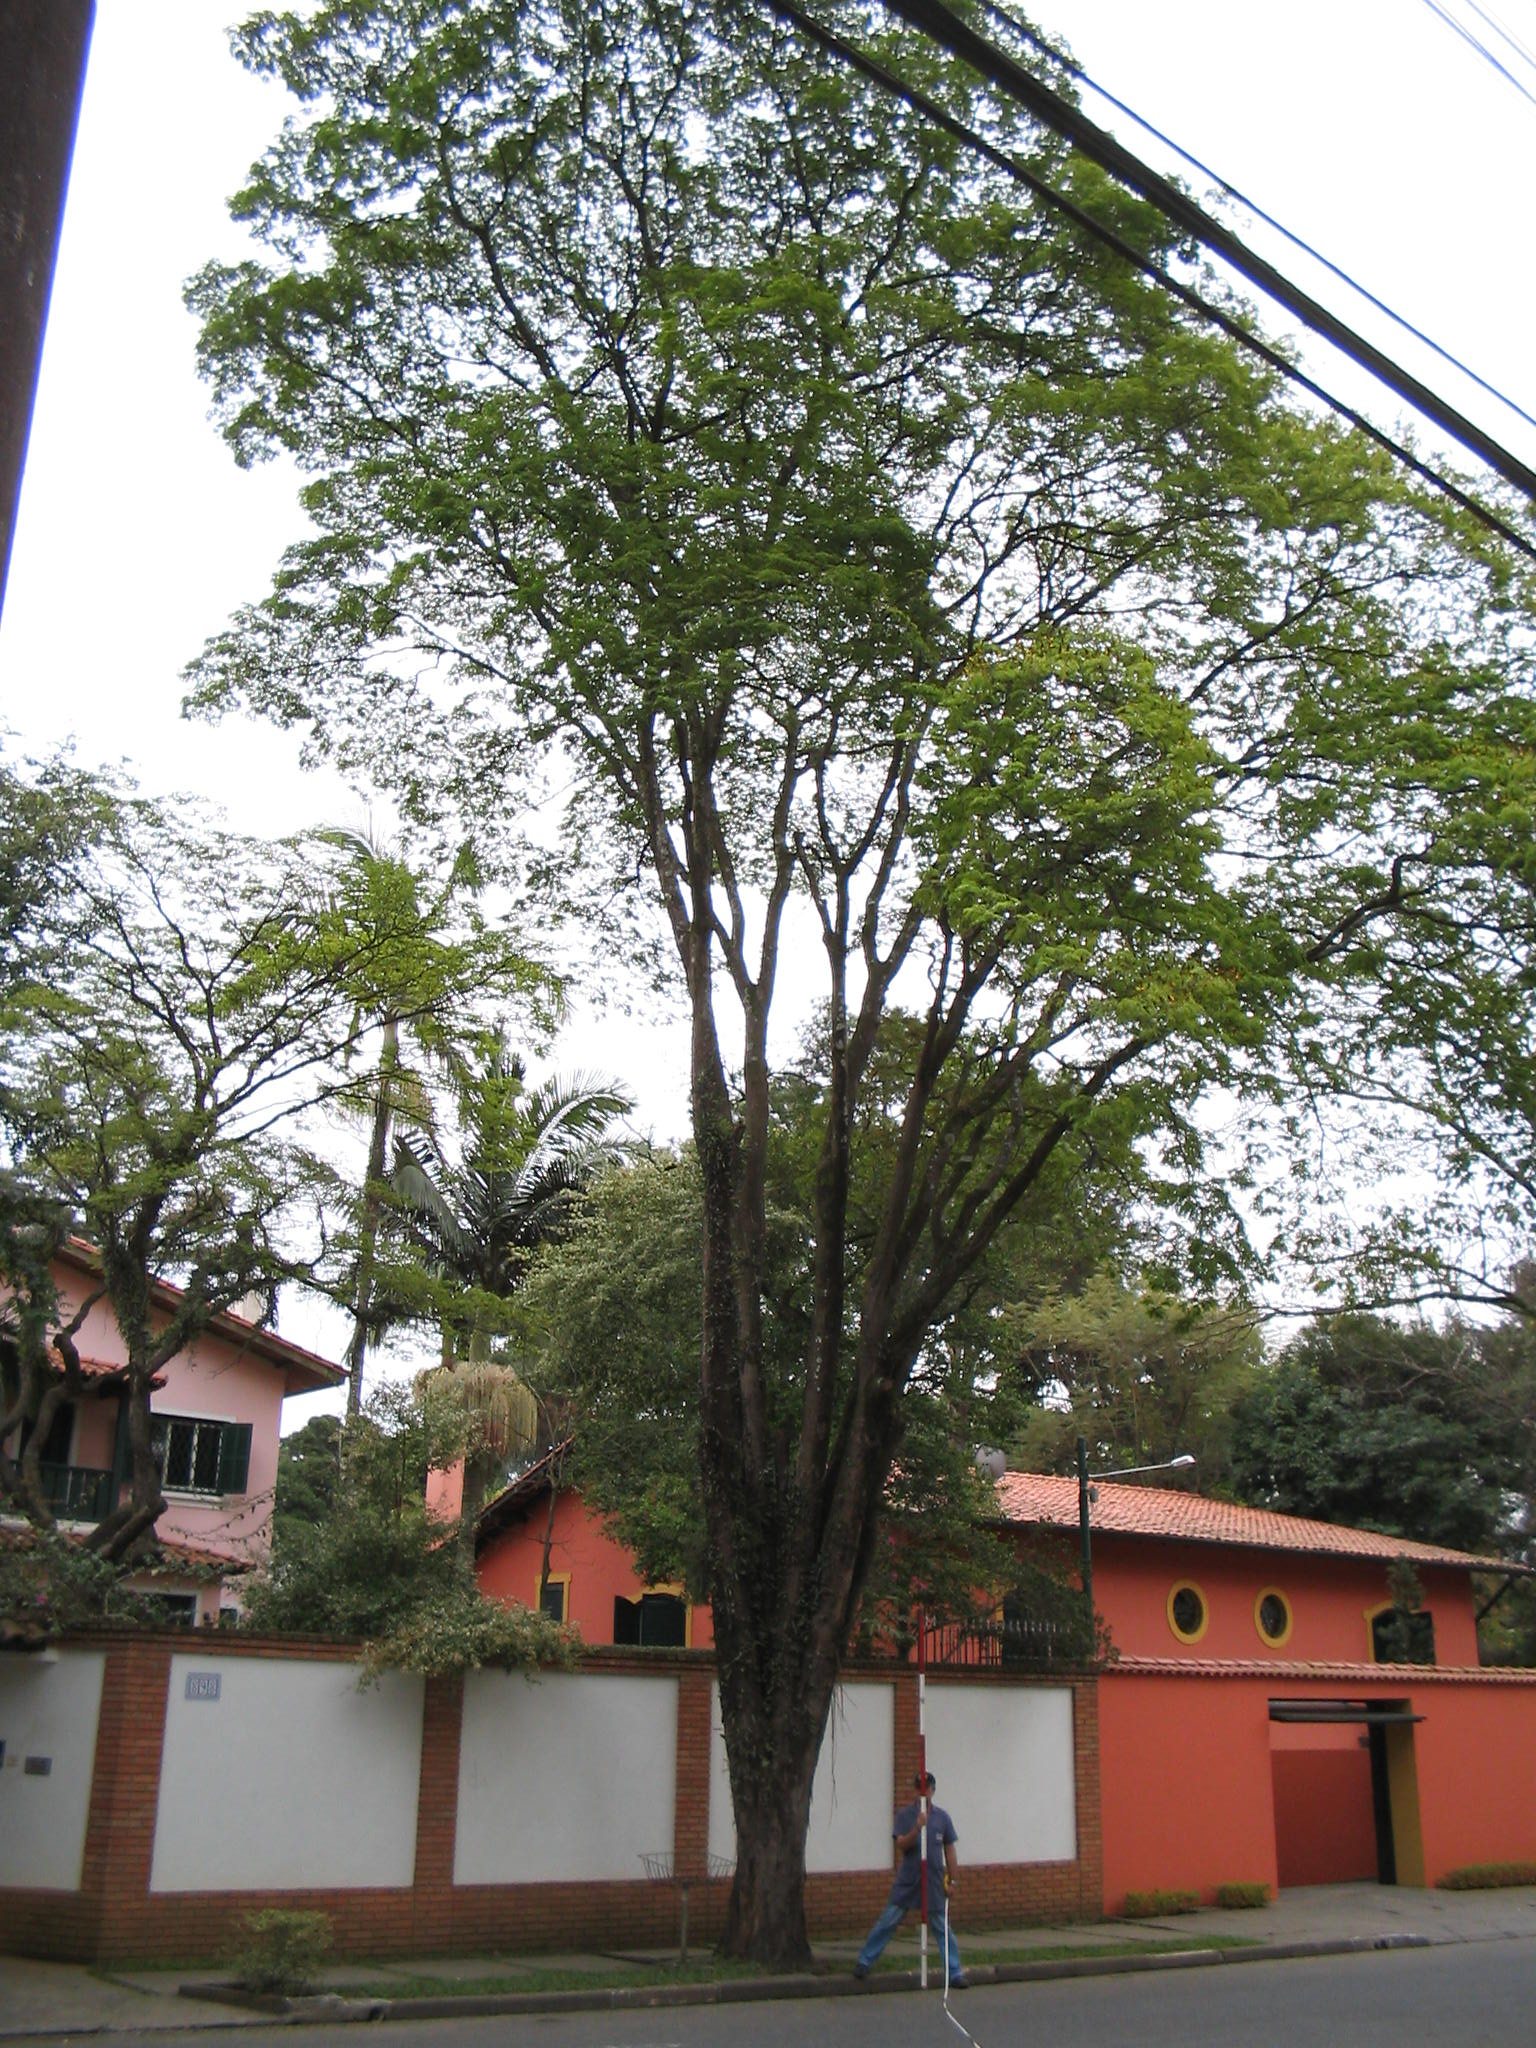crown: (153, 5, 1525, 1129)
stem: (695, 1746, 834, 1967)
stick: (891, 1616, 950, 1987)
tree: (155, 2, 1528, 1967)
